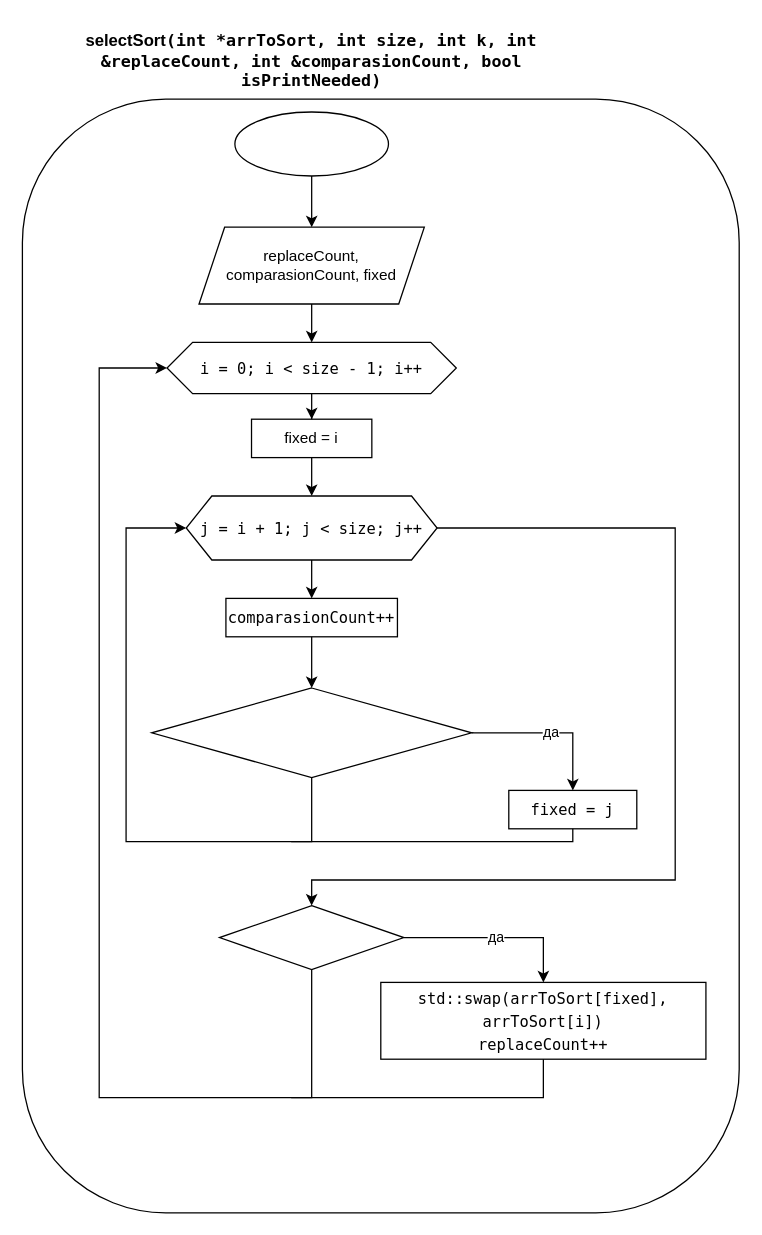
Some shapes in this 762 by 1235 pixel diagram are drawn without their labels. Here are the shapes that lost their labels. From the top down, the box of each, then its label:
(234, 111, 388, 176): Начало
(150, 687, 472, 778): ( k * arrToSort [ j ] < k * arrToSort [ fixed ])
(218, 904, 404, 970): fixed != i
